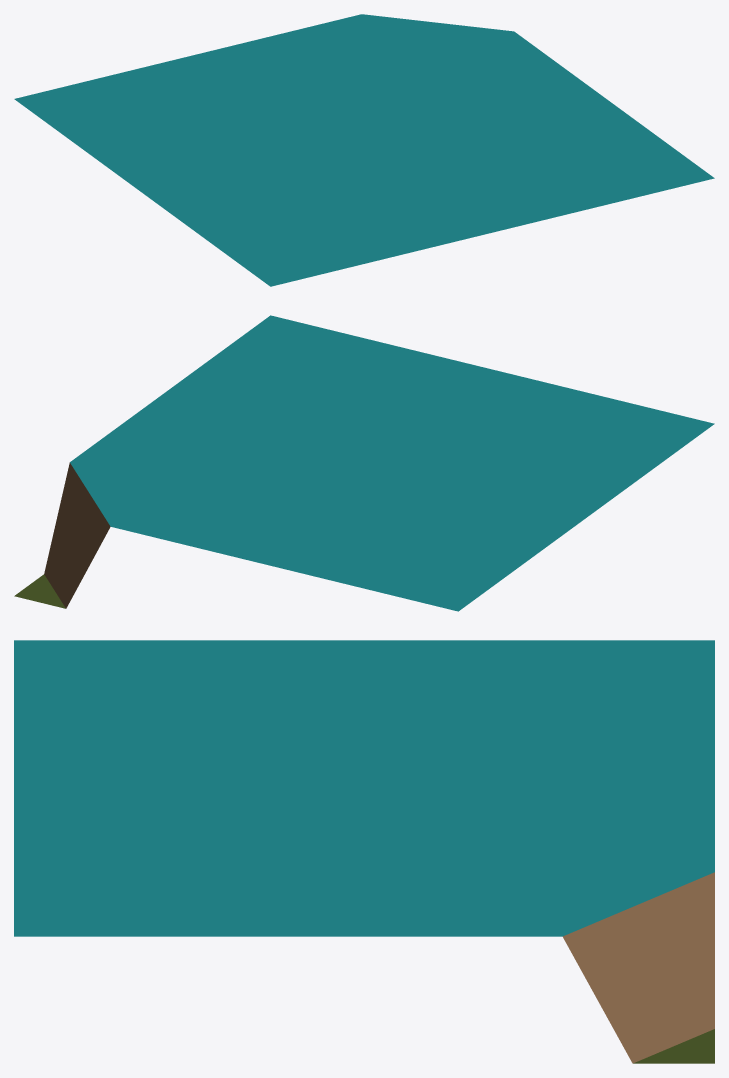
File: TB_Env_Mountain_I.FBX
3 renders of one model, top to bottom at view 1: azimuth 30°, elevation 25°; view 2: azimuth 150°, elevation 25°; view 3: azimuth 270°, elevation 25°, orthographic. The views are drawn at different scales.
Visible parts, largest first — view 1: TB_Env_Mountain_I; view 2: TB_Env_Mountain_I; view 3: TB_Env_Mountain_I.
Part boxes in pixels (box(x1,y1,x2,y2)): TB_Env_Mountain_I: box(14, 14, 714, 286); TB_Env_Mountain_I: box(14, 315, 714, 611); TB_Env_Mountain_I: box(14, 640, 714, 1063).
Bounding box in the file's own units: 10 × 2 × 10.
1 material, 1 textured.
